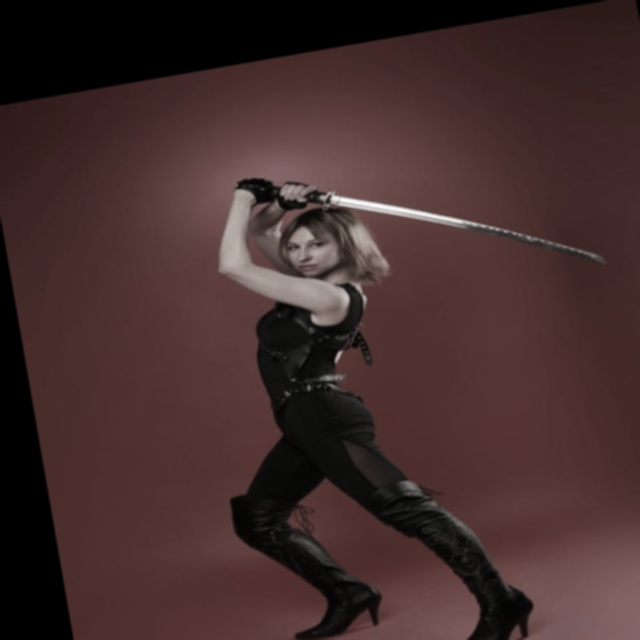Sharp-Object: (234, 109, 620, 328)
